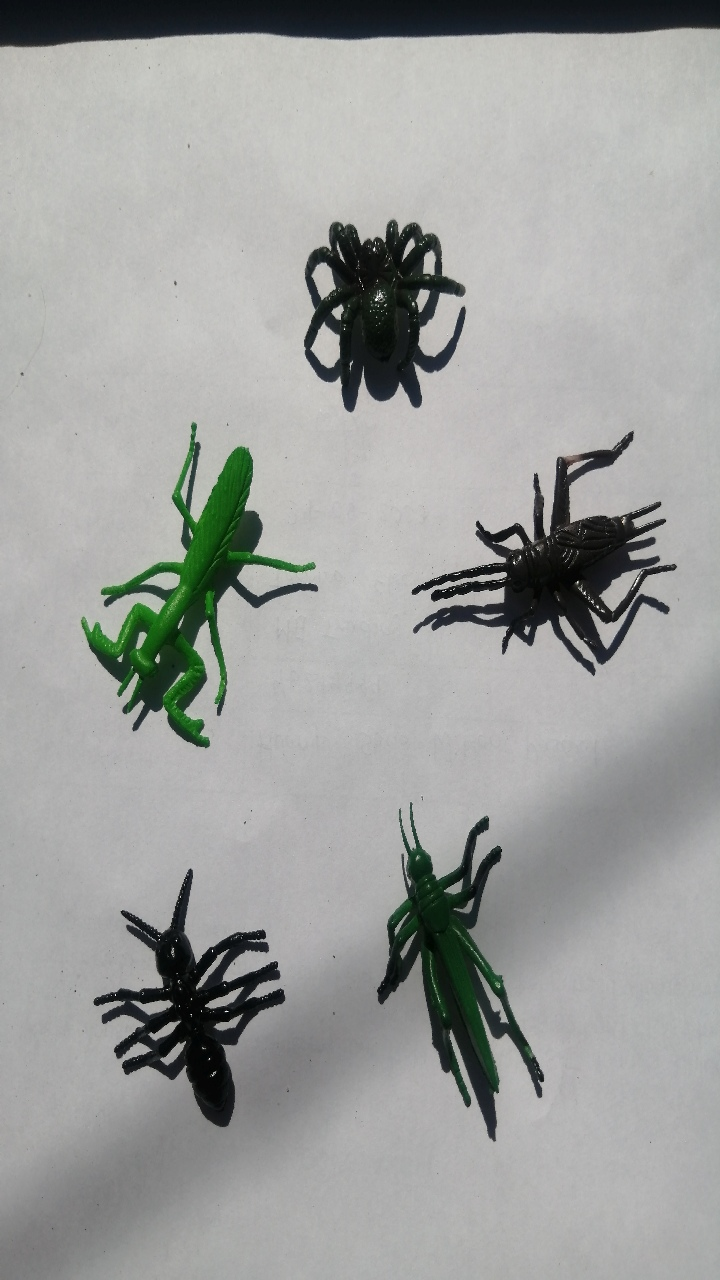intruso: (43, 406, 312, 769), (397, 403, 691, 720), (346, 766, 577, 1154), (55, 854, 295, 1180), (231, 168, 500, 423)
